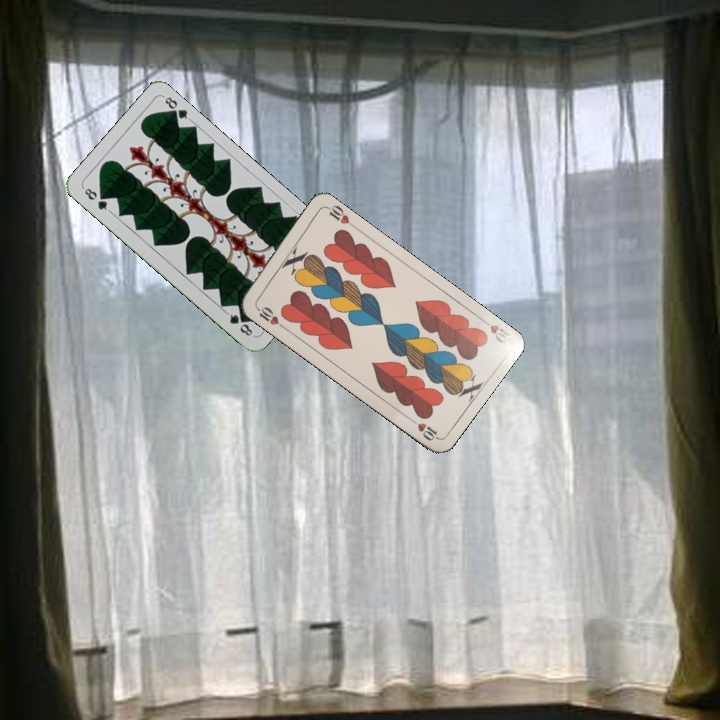G8: (79, 183, 113, 214)
H10: (476, 314, 512, 346), (251, 302, 287, 331)
